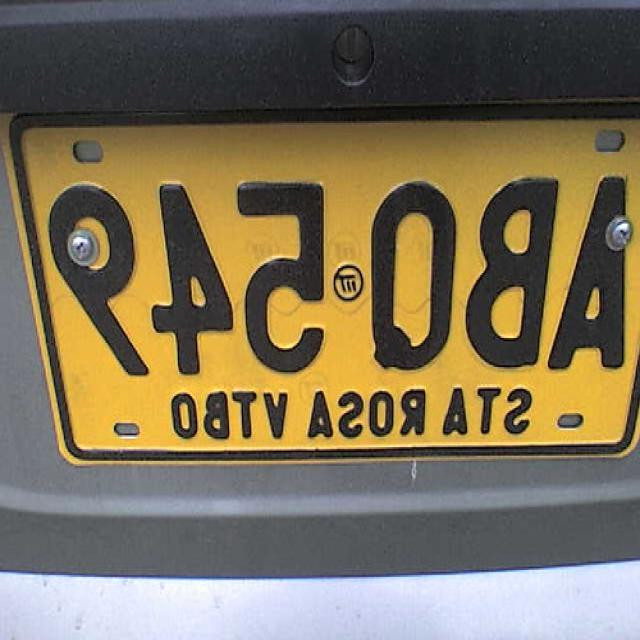placas: (19, 164, 633, 385)
